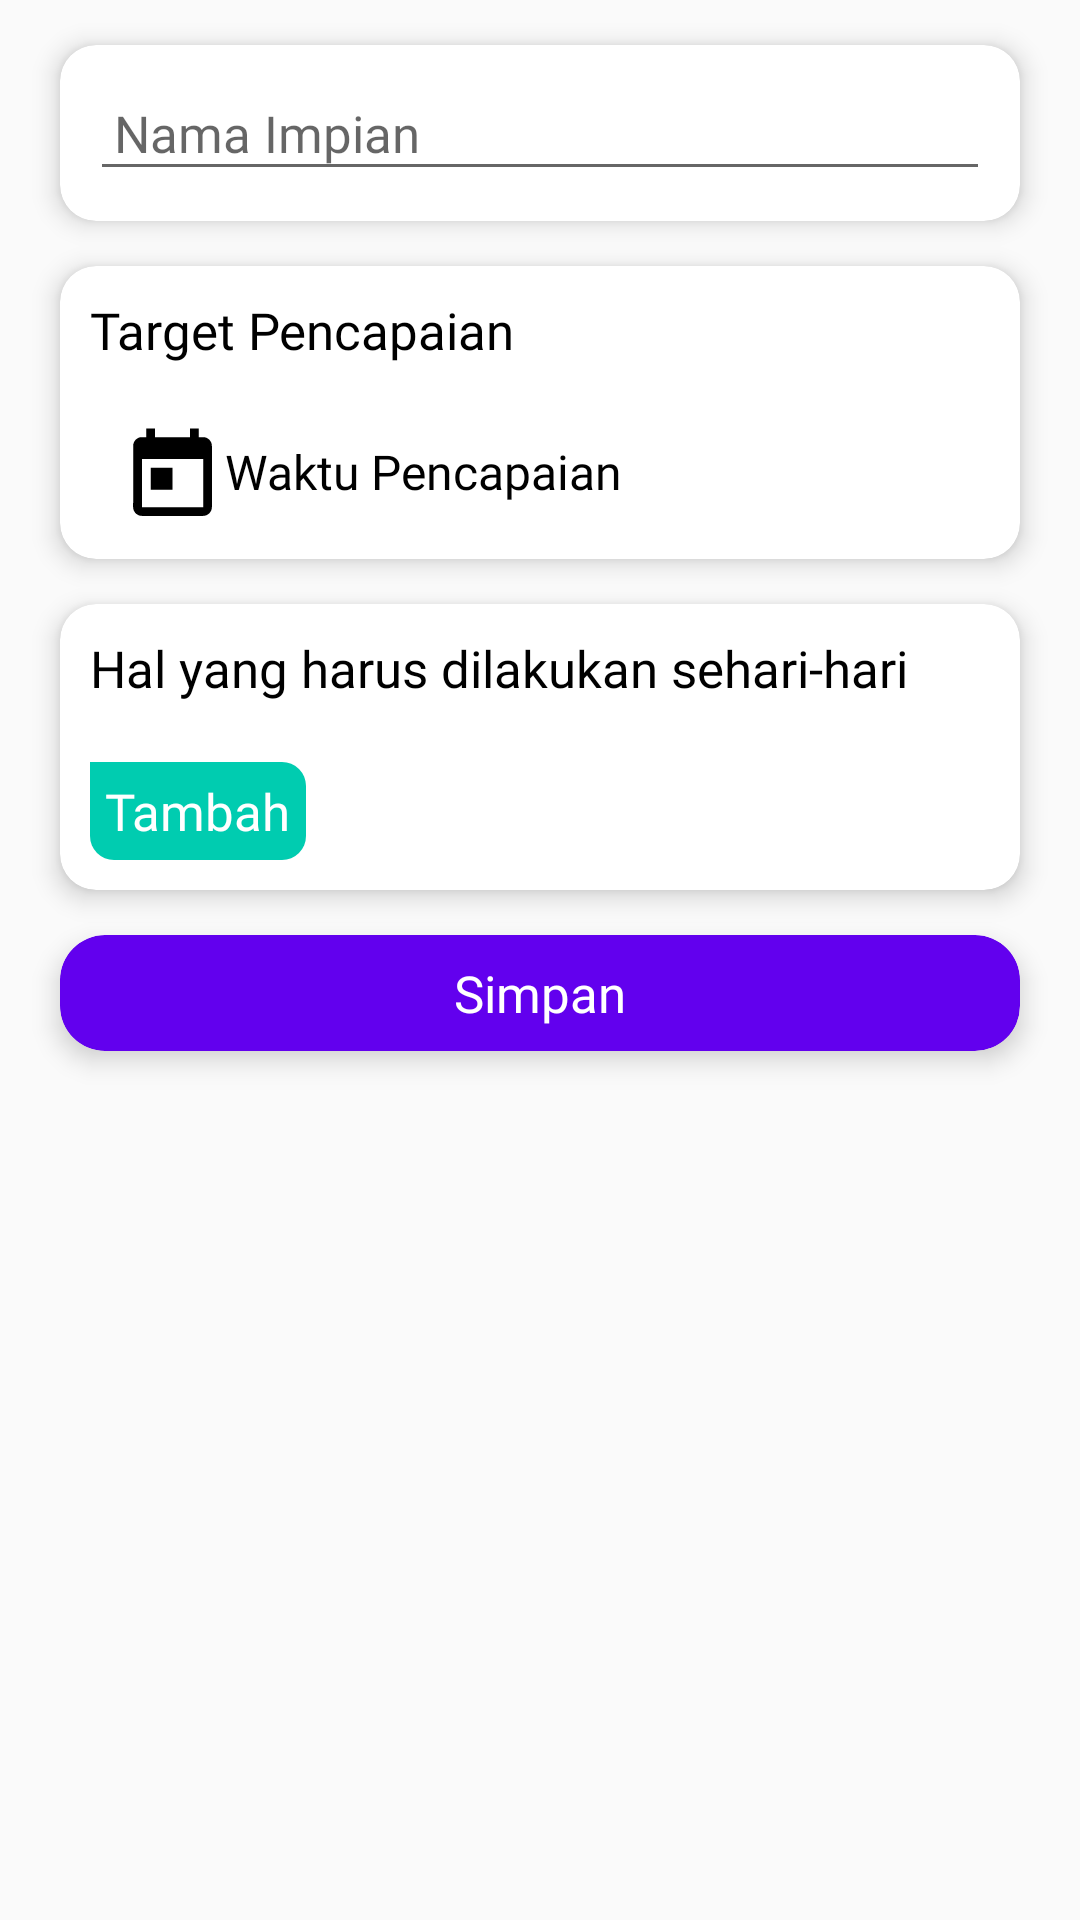

Icon click points for this 1080*1920 phone screenshot, format point (x, y):
today: point (172, 472)
